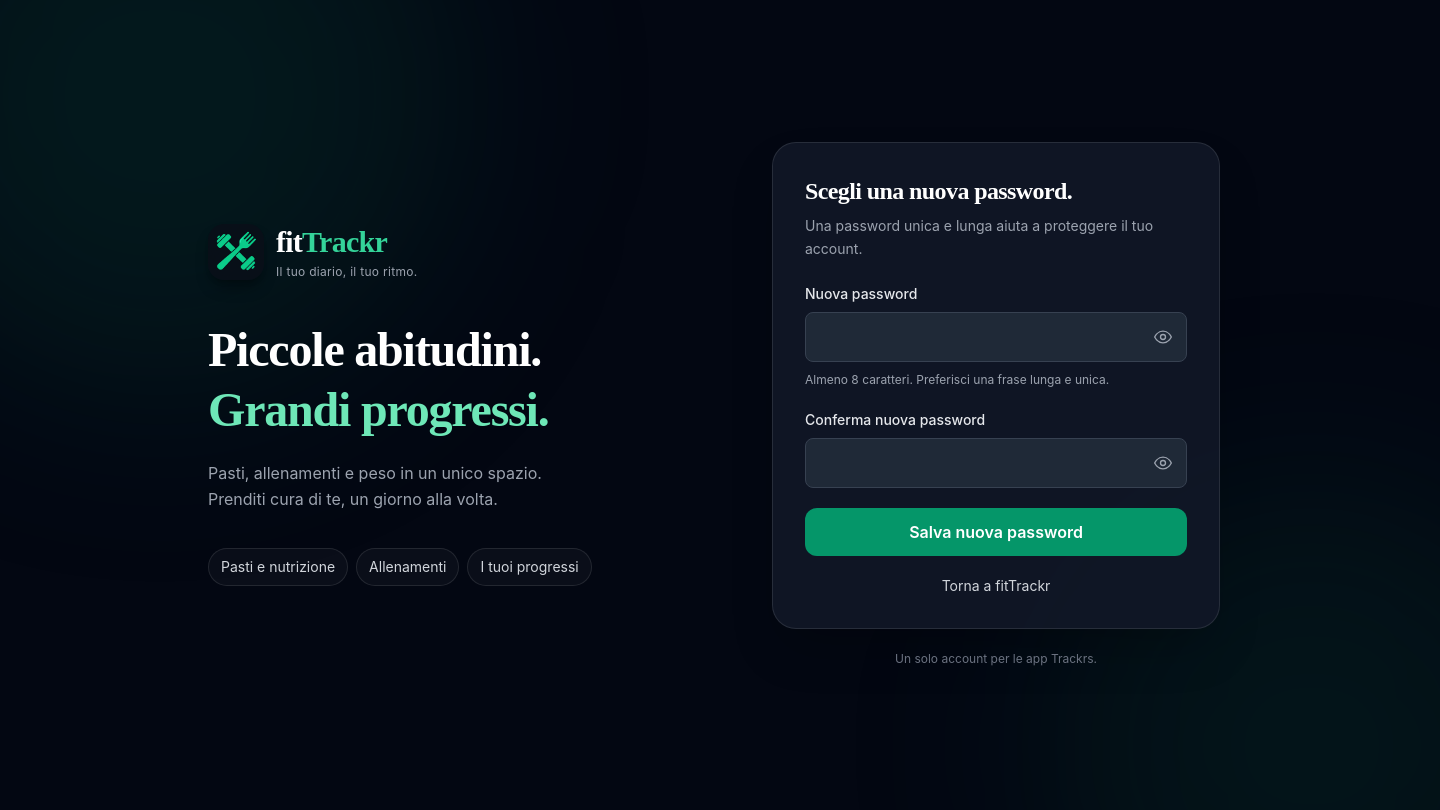
Test: ResetPasswordPage › allows retrying after a rejected password update
Type "new-passphrase" into the password field labelled "Nuova password" at [996, 337], box [805, 312, 1187, 362]
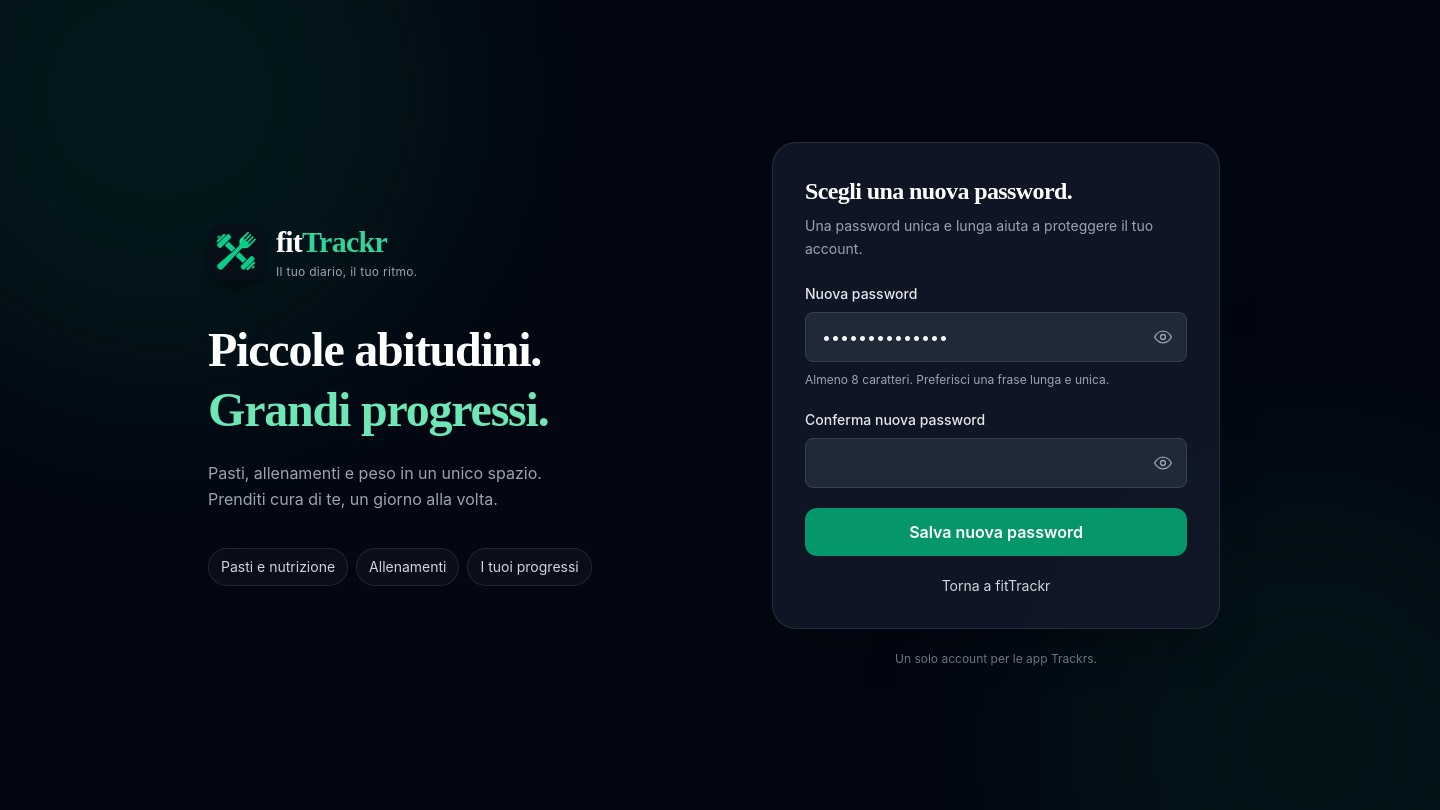
Type "new-passphrase" into the password field labelled "Conferma nuova password" at [996, 463], box [805, 438, 1187, 488]
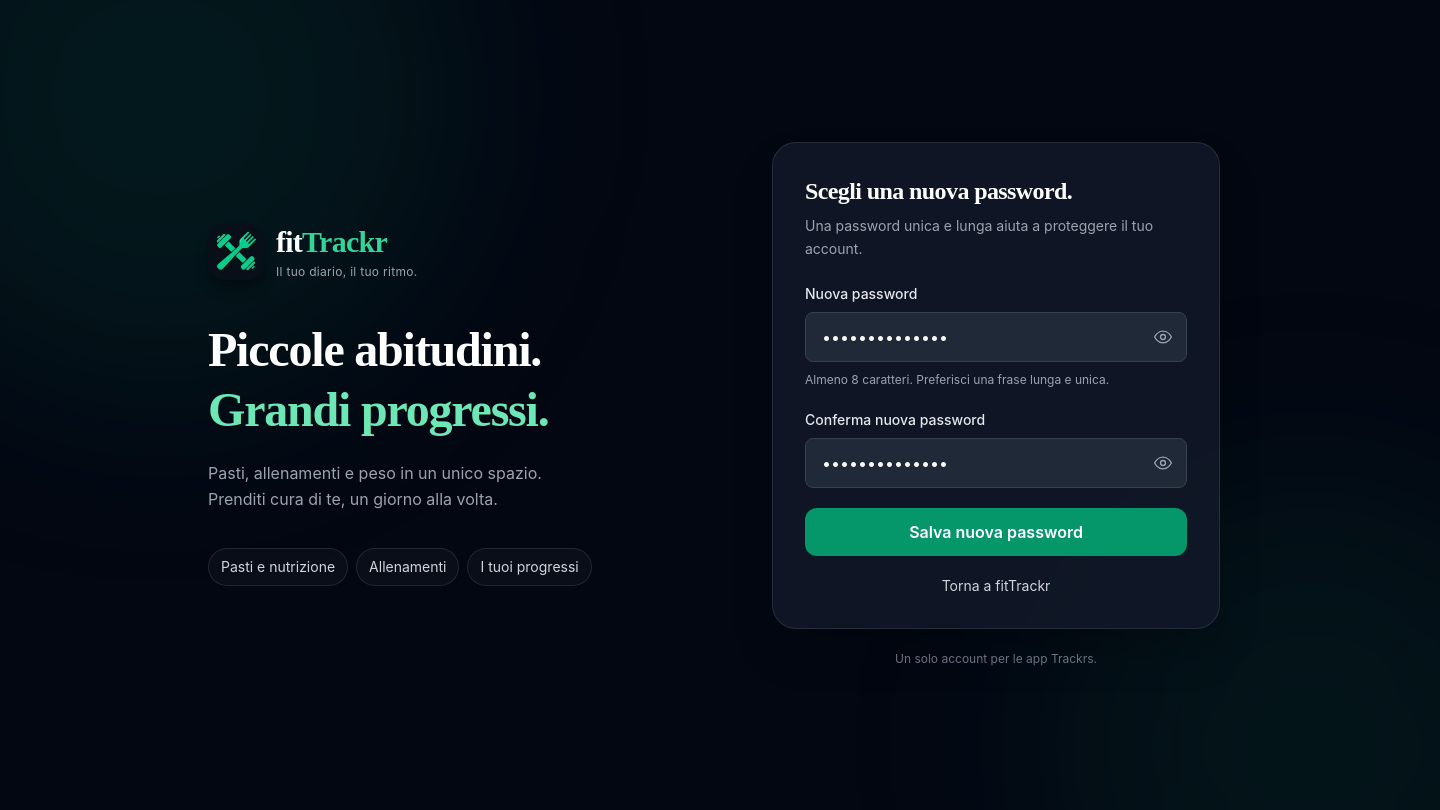
Click the button "Salva nuova password" at [996, 532], box [805, 508, 1187, 556]
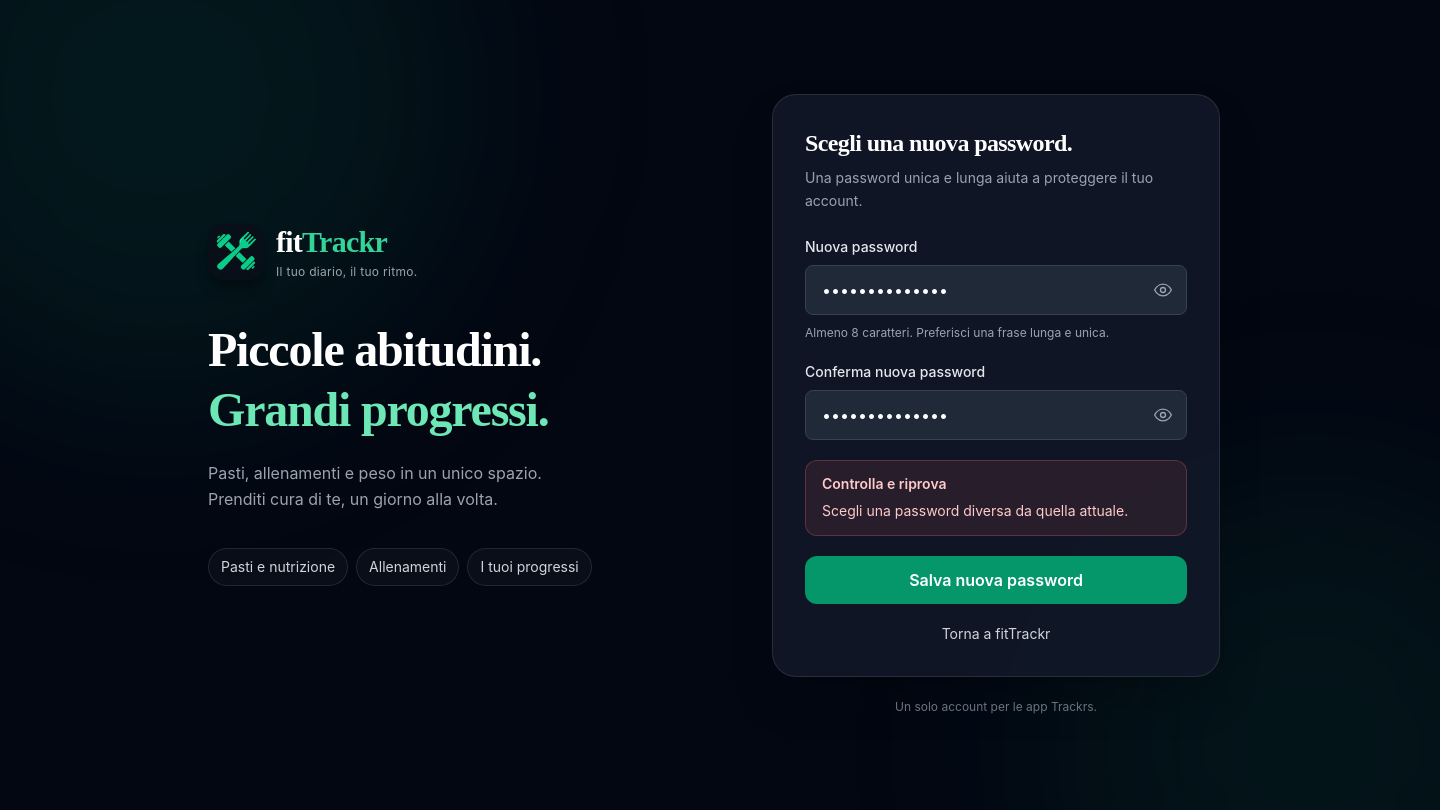
Expected: the button "Salva nuova password" is enabled, [805, 556, 1187, 604]
Result: the message shows "diversa da quella attuale" at [822, 502, 1128, 519]
